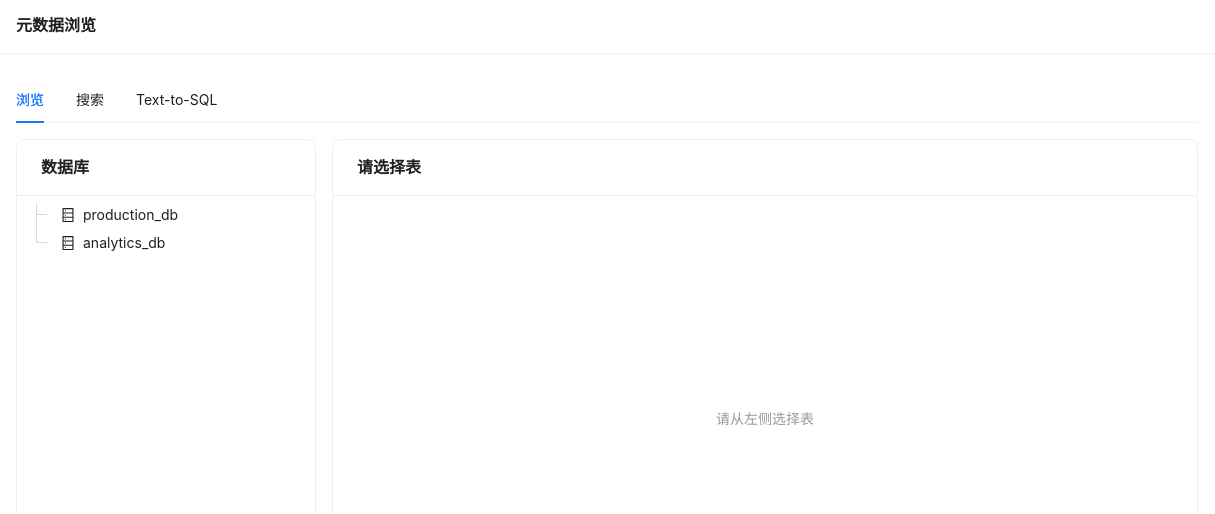
Test: MetadataPage Text-to-SQL 功能 › 应该能够切换到 Text-to-SQL 标签
Click the tab "Text-to-SQL". click: (177,100)
box: [136,89,217,111]
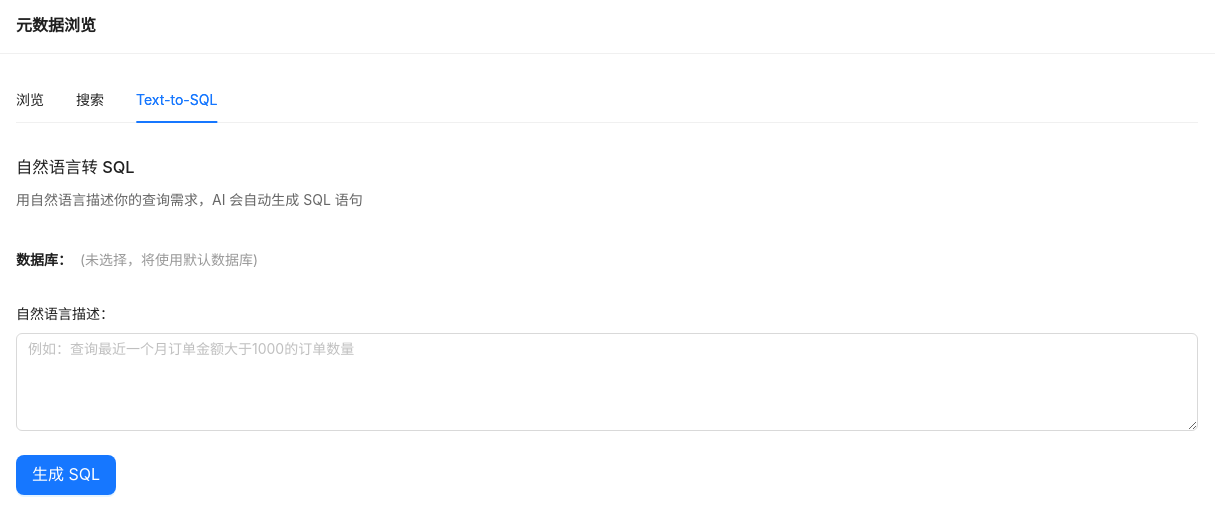
Expected: the heading "自然语言转 SQL" is shown, [16,157,135,177]
